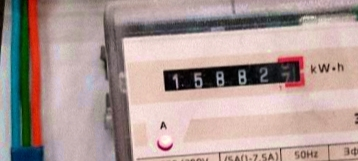1: (170, 71, 181, 89)
2: (258, 65, 270, 83)
5: (192, 71, 204, 88)
7: (281, 71, 292, 82)
8: (213, 69, 226, 86), (236, 67, 248, 85)
screen: (155, 52, 312, 100)
